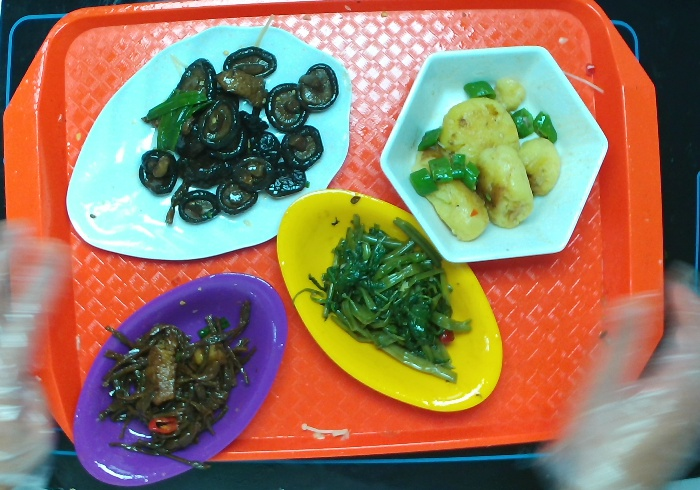RJxy-Bai_Ye_Pan: (66, 20, 352, 262)
RJxy-Fen_Hong_Tuo_Yuan: (72, 270, 292, 487)
RJxy-Huang_Se_Tuo_Yuan: (277, 186, 503, 419)
RJxy-Liu_Jiao_Wan: (380, 42, 611, 263)
